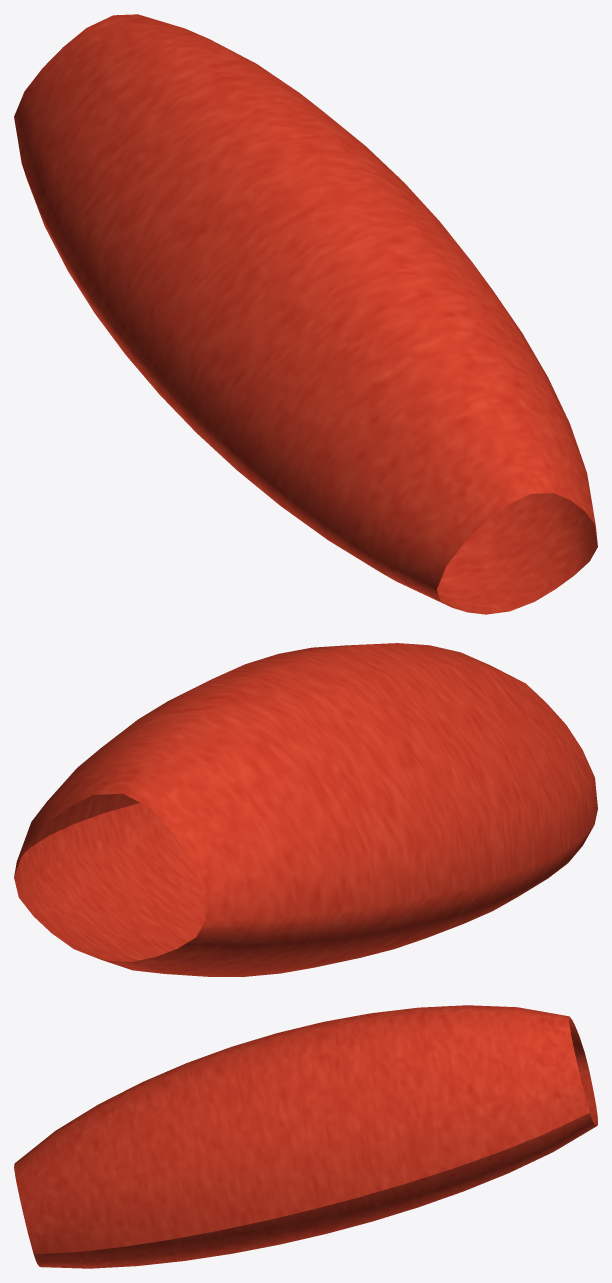
File: 08_Veg_Pumpkin_Red_Front.obj
3 renders of one model, top to bottom at view 1: azimuth 30°, elevation 25°; view 2: azimuth 150°, elevation 25°; view 3: azimuth 270°, elevation 25°, orthographic. The views are drawn at different scales.
Visible parts, largest first — view 1: 08_Veg_Pumpkin_Red_Front; view 2: 08_Veg_Pumpkin_Red_Front; view 3: 08_Veg_Pumpkin_Red_Front.
Boxes of the visible parts, x1,y1,x2,y2 form: 08_Veg_Pumpkin_Red_Front: (14, 14, 597, 614); 08_Veg_Pumpkin_Red_Front: (14, 643, 597, 976); 08_Veg_Pumpkin_Red_Front: (14, 1005, 597, 1268).
Size of the model in its own units: 0.0302 by 0.031 by 0.0678.
1 material, 1 textured.
